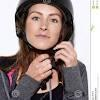helmet: (10, 0, 82, 53)
